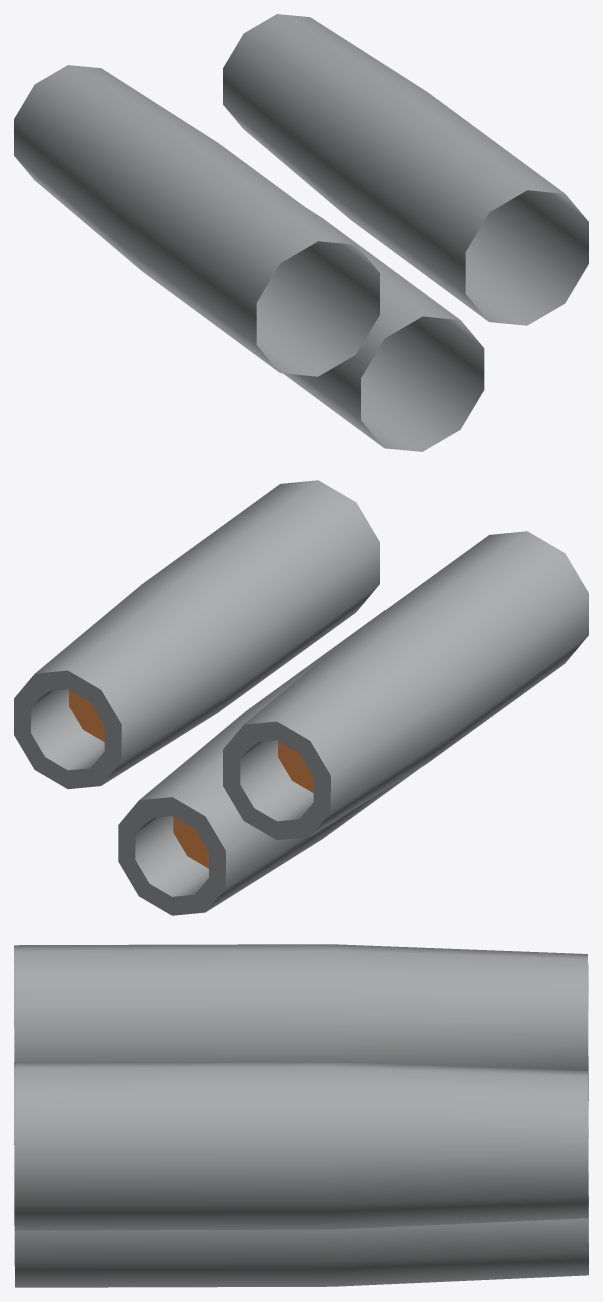
File: Car_14_Pipe_Cool.fbx
The picture shows the model from 3 angles, top to bottom: view 1: azimuth 30°, elevation 25°; view 2: azimuth 150°, elevation 25°; view 3: azimuth 270°, elevation 25°; orthographic projection. The views are drawn at different scales.
Parts seen in each view (by area): view 1: Car_14_Pipe_Cool; view 2: Car_14_Pipe_Cool; view 3: Car_14_Pipe_Cool.
Part boxes in pixels (x1,y1,x2,y2): Car_14_Pipe_Cool: (14, 14, 588, 451); Car_14_Pipe_Cool: (14, 480, 588, 915); Car_14_Pipe_Cool: (14, 944, 588, 1287).
Size of the model in its own units: 51.33 by 67.08 by 35.03.
